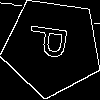P: (27, 22, 77, 62)
